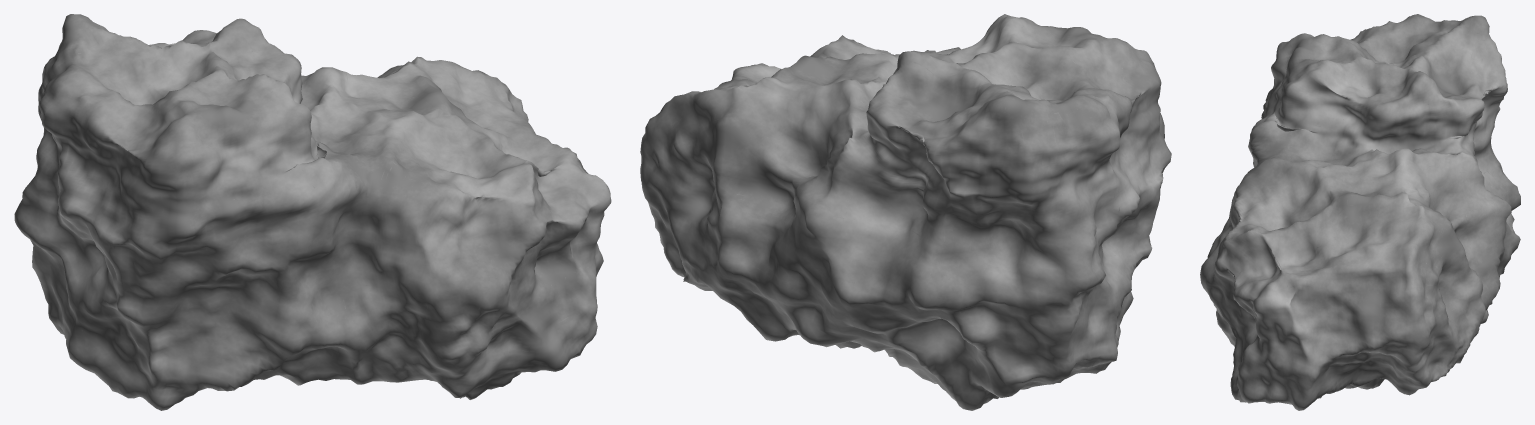
Rendered from AstroidThree.gltf.
3 renders of one model, left to right at view 1: azimuth 30°, elevation 25°; view 2: azimuth 150°, elevation 25°; view 3: azimuth 270°, elevation 25°, orthographic. The views are drawn at different scales.
Parts seen in each view (by area): view 1: Cube.002; view 2: Cube.002; view 3: Cube.002.
Boxes of the visible parts, box(x1,y1,x2,y2) form: Cube.002: box(14, 14, 611, 410); Cube.002: box(640, 14, 1171, 410); Cube.002: box(1200, 14, 1520, 410).
Size of the model in its own units: 4.04 by 2.81 by 2.9.
1 material, 1 textured.
